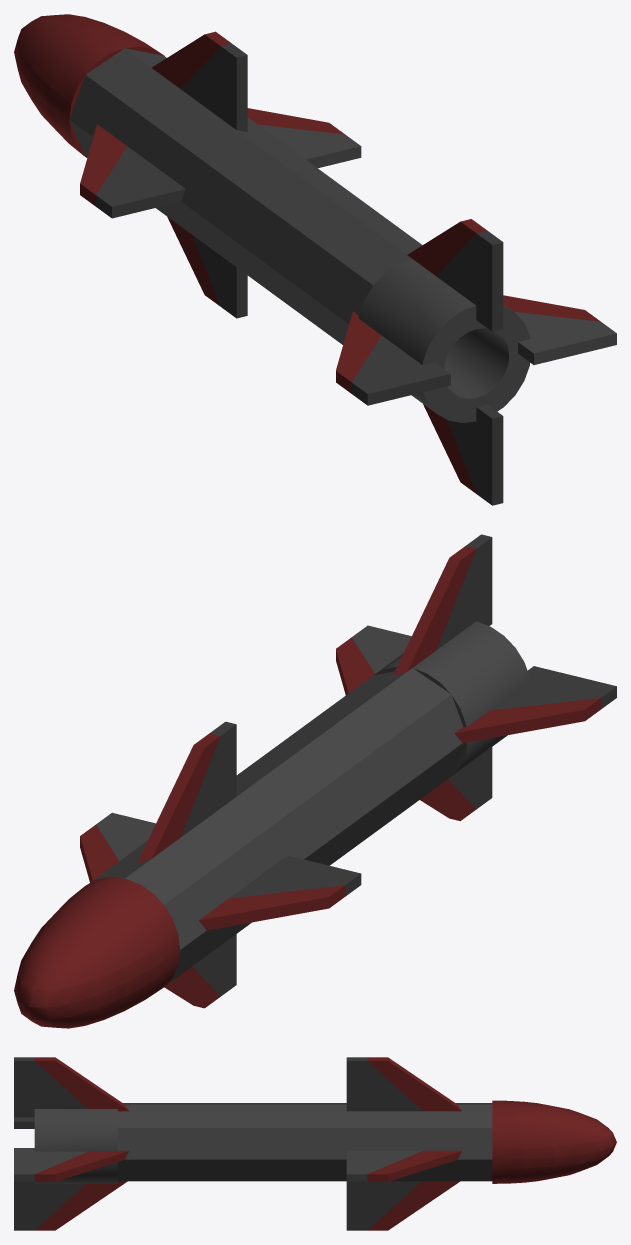
The model's file is missile2.fbx.
The picture shows the model from 3 angles, top to bottom: view 1: azimuth 30°, elevation 25°; view 2: azimuth 150°, elevation 25°; view 3: azimuth 270°, elevation 25°; orthographic projection. The views are drawn at different scales.
Parts seen in each view (by area): view 1: cylinder_vertex_17, cylinder_hollow_20, sphere_dome_19, wing_endLong_25, wing_endLong_23, wing_endLong_15, wing_endLong_13, wing_endLong_22, wing_endLong_24, wing_endLong_16, wing_endLong_14; view 2: cylinder_vertex_17, sphere_dome_19, cylinder_hollow_20, wing_endLong_15, wing_endLong_25, wing_endLong_23, wing_endLong_13, wing_endLong_16, wing_endLong_24, wing_endLong_22, wing_endLong_14; view 3: cylinder_vertex_17, sphere_dome_19, wing_endLong_13, cylinder_hollow_20, wing_endLong_25, wing_endLong_14, wing_endLong_22, wing_endLong_16, wing_endLong_24.
Part boxes in pixels (x1=…): cylinder_vertex_17: x1=69, y1=48, x2=422, y2=344; cylinder_hollow_20: x1=358, y1=259, x2=530, y2=422; sphere_dome_19: x1=14, y1=14, x2=164, y2=157; wing_endLong_25: x1=407, y1=219, x2=503, y2=331; wing_endLong_23: x1=336, y1=311, x2=450, y2=405; wing_endLong_15: x1=80, y1=124, x2=185, y2=218; wing_endLong_13: x1=151, y1=31, x2=247, y2=132; wing_endLong_22: x1=423, y1=404, x2=503, y2=505; wing_endLong_24: x1=503, y1=295, x2=616, y2=364; wing_endLong_16: x1=247, y1=108, x2=361, y2=168; wing_endLong_14: x1=167, y1=216, x2=247, y2=318; cylinder_vertex_17: x1=89, y1=668, x2=465, y2=984; sphere_dome_19: x1=14, y1=877, x2=179, y2=1028; cylinder_hollow_20: x1=374, y1=621, x2=530, y2=775; wing_endLong_15: x1=199, y1=855, x2=361, y2=930; wing_endLong_25: x1=392, y1=534, x2=492, y2=676; wing_endLong_23: x1=454, y1=666, x2=616, y2=743; wing_endLong_13: x1=137, y1=721, x2=236, y2=863; wing_endLong_16: x1=80, y1=812, x2=155, y2=882; wing_endLong_24: x1=336, y1=625, x2=411, y2=695; wing_endLong_22: x1=420, y1=747, x2=492, y2=821; wing_endLong_14: x1=164, y1=934, x2=236, y2=1008; cylinder_vertex_17: x1=118, y1=1103, x2=492, y2=1181; sphere_dome_19: x1=492, y1=1100, x2=616, y2=1183; wing_endLong_13: x1=346, y1=1057, x2=461, y2=1111; cylinder_hollow_20: x1=34, y1=1109, x2=117, y2=1183; wing_endLong_25: x1=14, y1=1057, x2=128, y2=1117; wing_endLong_14: x1=346, y1=1181, x2=459, y2=1230; wing_endLong_22: x1=14, y1=1181, x2=127, y2=1230; wing_endLong_16: x1=346, y1=1150, x2=461, y2=1181; wing_endLong_24: x1=14, y1=1148, x2=128, y2=1181.
Size of the model in its own units: 9 by 9 by 29.
